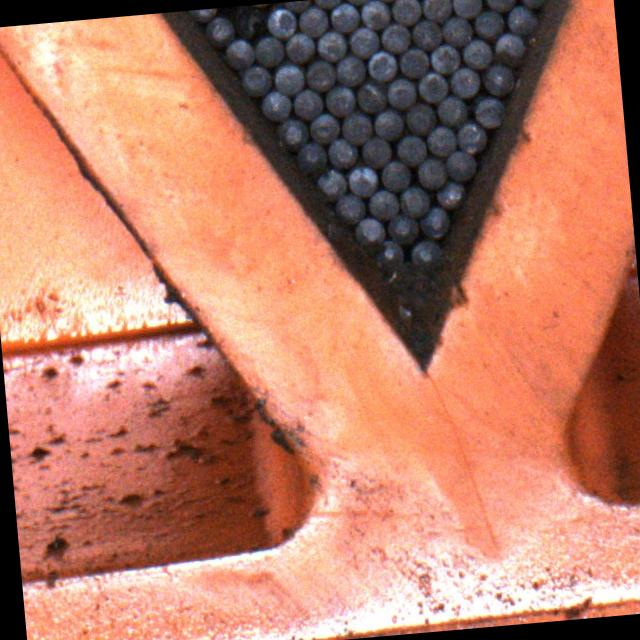tool: (491, 32, 525, 68), (417, 204, 451, 238), (402, 100, 436, 134), (415, 70, 448, 104), (394, 133, 428, 166), (398, 184, 431, 218), (434, 95, 468, 128), (386, 212, 420, 245), (480, 64, 514, 97), (455, 119, 488, 152), (276, 116, 309, 149), (448, 67, 481, 100), (372, 108, 404, 142), (352, 78, 384, 112), (408, 237, 442, 269), (410, 18, 442, 51), (459, 39, 492, 71), (266, 5, 298, 38), (304, 59, 336, 92), (444, 149, 476, 182), (272, 63, 304, 96), (365, 188, 398, 220), (354, 214, 386, 247), (295, 140, 327, 173), (332, 192, 364, 225), (346, 164, 379, 196), (423, 124, 455, 157), (314, 167, 346, 200), (432, 178, 466, 209), (439, 15, 471, 47), (310, 113, 342, 145), (334, 54, 366, 86), (384, 78, 416, 110), (360, 135, 392, 167), (378, 160, 410, 192), (324, 86, 356, 118), (416, 156, 448, 188), (326, 136, 358, 168), (342, 112, 374, 144), (371, 238, 403, 270), (240, 65, 272, 96), (504, 3, 536, 34), (225, 36, 256, 68), (472, 95, 504, 126), (316, 28, 346, 61), (204, 15, 234, 48), (260, 91, 291, 122), (399, 47, 430, 78), (379, 22, 409, 54), (348, 26, 378, 58), (284, 31, 314, 63), (366, 50, 396, 82), (252, 34, 282, 66), (292, 88, 322, 120), (474, 8, 504, 40), (428, 44, 458, 75), (330, 2, 360, 33), (298, 5, 328, 36), (360, 0, 390, 30), (389, 0, 420, 26), (419, 0, 450, 21), (451, 0, 482, 19), (188, 8, 215, 22), (485, 0, 516, 11), (284, 0, 312, 11), (313, 0, 343, 9), (518, 0, 549, 7), (344, 0, 373, 5)
tool_b: (234, 7, 269, 40)
